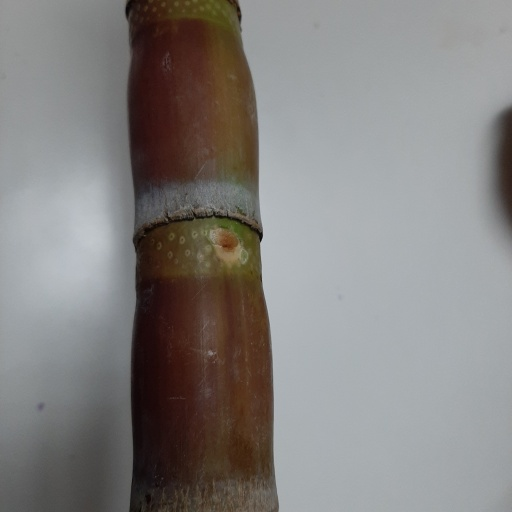Damage_Bud: (207, 225, 247, 266)
